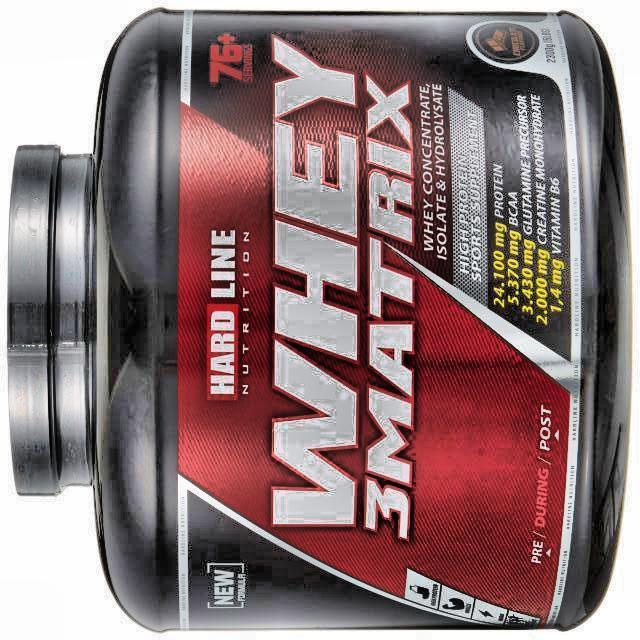plastic: (8, 9, 631, 630)
